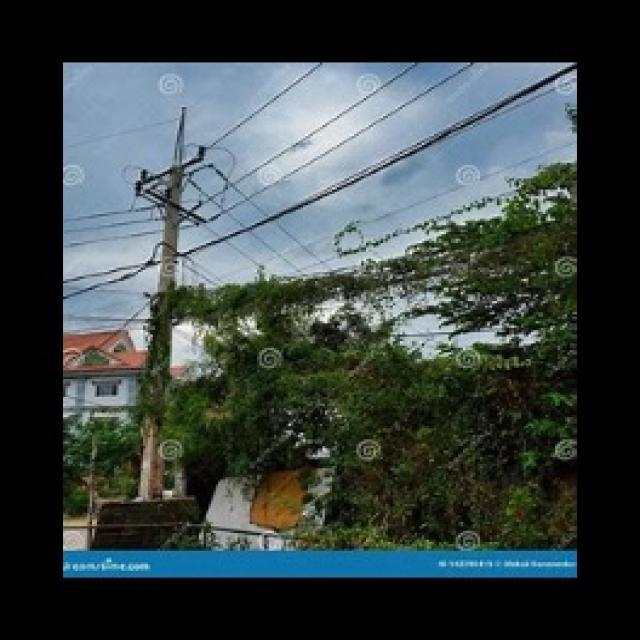critical vegetation: (158, 261, 572, 376)
